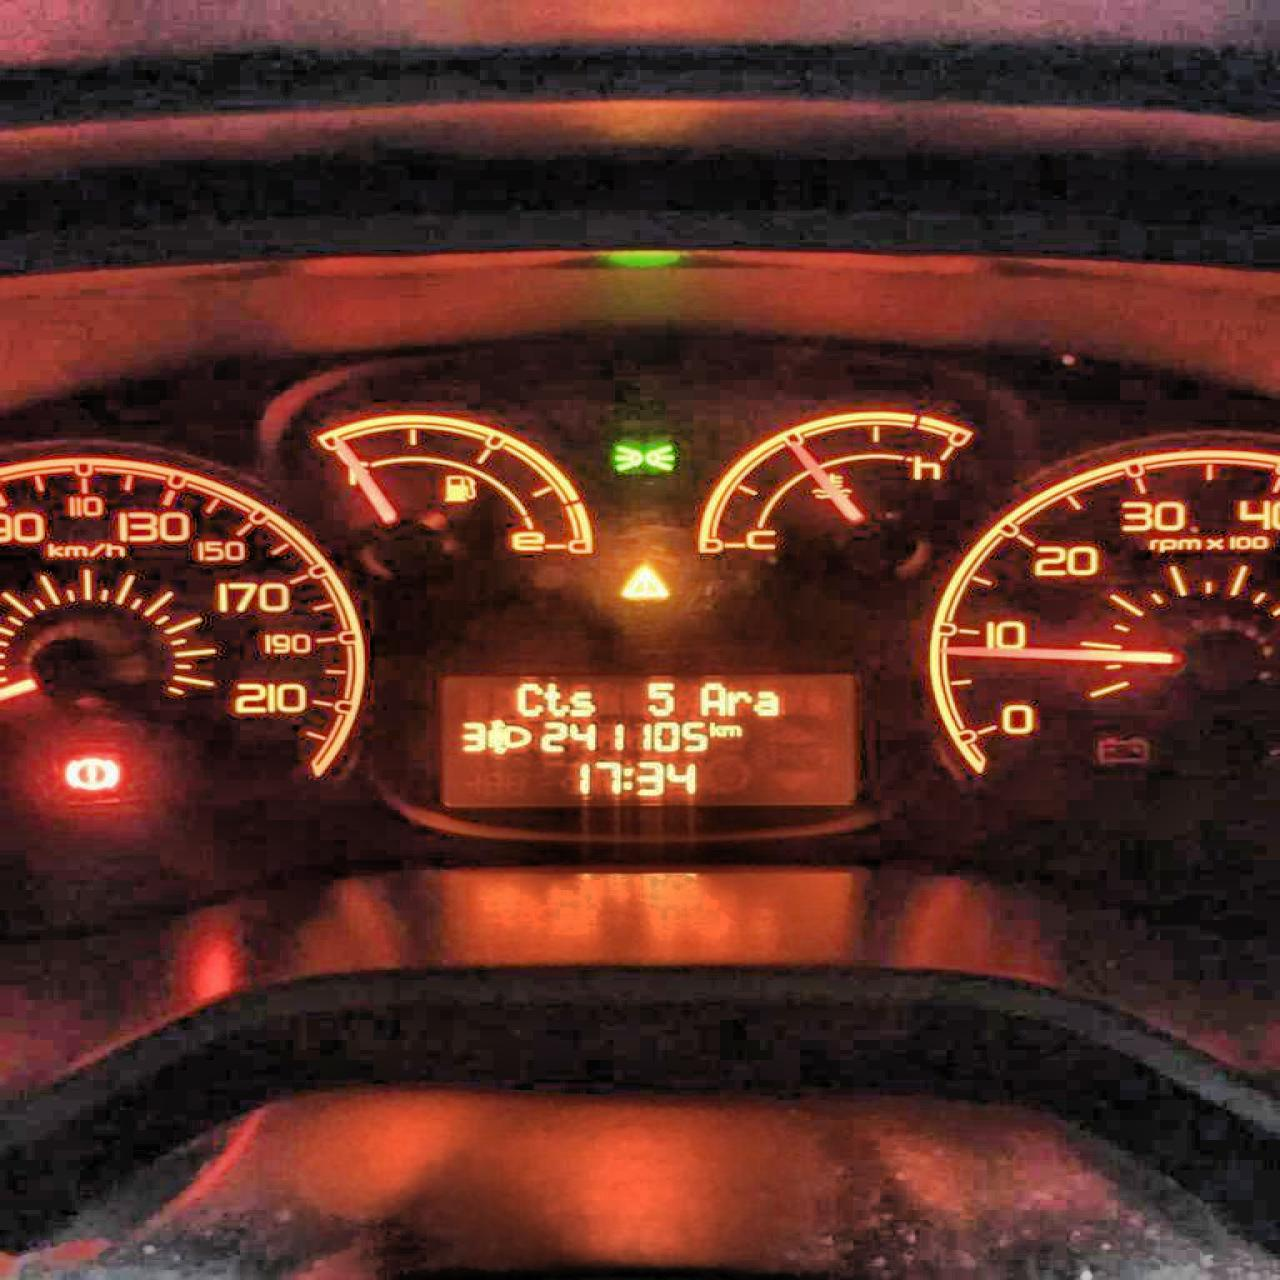0: (652, 719, 679, 753)
1: (605, 717, 628, 753), (572, 758, 592, 796), (635, 719, 652, 751)
2: (538, 719, 567, 754)
3: (633, 757, 663, 797), (458, 719, 485, 754)
4: (662, 761, 699, 795), (568, 719, 597, 751)
5: (644, 679, 676, 716), (680, 719, 707, 753)
7: (593, 758, 620, 796)
X: (513, 678, 544, 719), (695, 679, 726, 717), (544, 679, 568, 717), (751, 686, 781, 716), (568, 688, 597, 717), (727, 686, 751, 716), (720, 722, 742, 737), (620, 765, 633, 790), (707, 719, 720, 738)
odometer: (435, 669, 855, 810)
